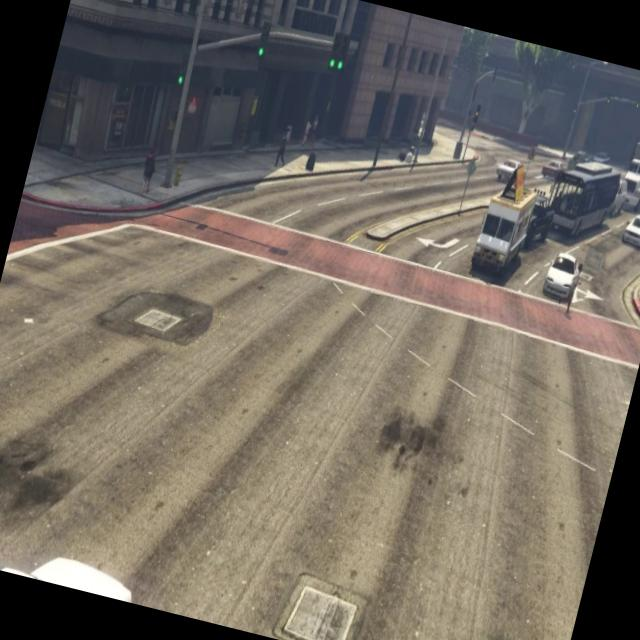Green-Signal: (316, 23, 358, 86), (250, 13, 276, 67), (168, 44, 194, 95)
